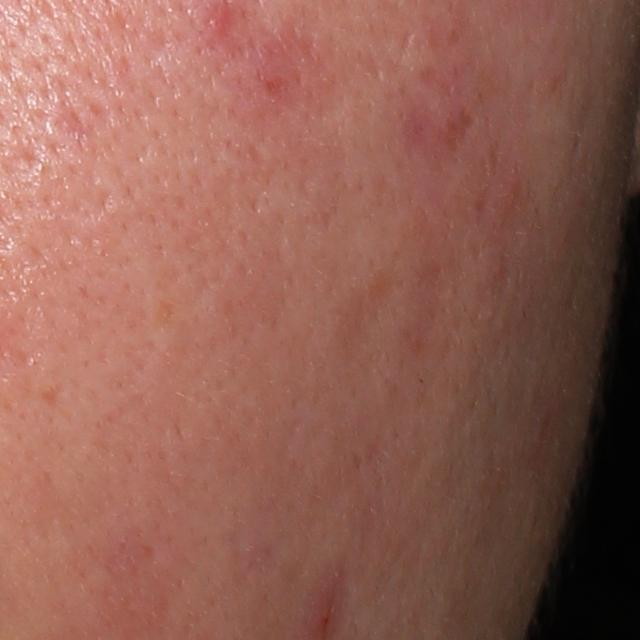papule: (200, 3, 235, 39)
